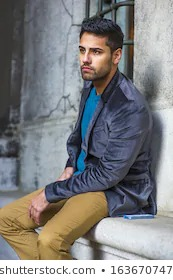F_M_suit jacket: (39, 66, 159, 218)
